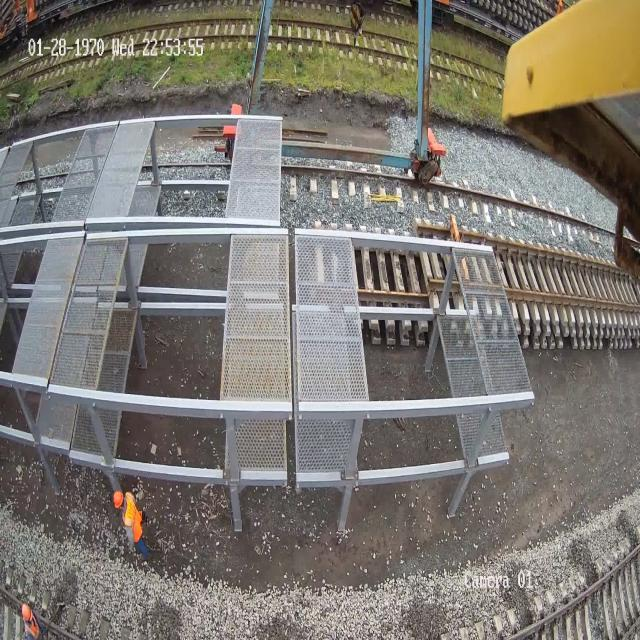Helmet: (22, 602, 32, 622), (113, 490, 123, 509)
Person: (112, 490, 150, 560), (21, 603, 42, 639)
